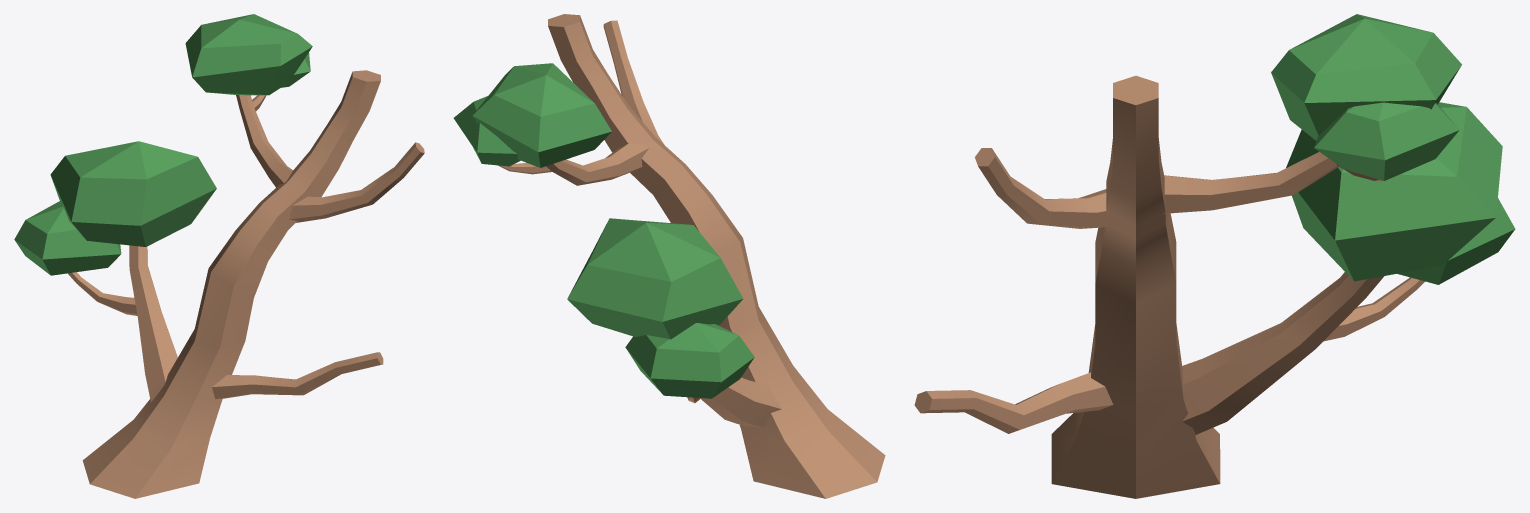
File: tree_03.fbx
3 renders of one model, left to right at view 1: azimuth 30°, elevation 25°; view 2: azimuth 150°, elevation 25°; view 3: azimuth 270°, elevation 25°, orthographic. The views are drawn at different scales.
Visible parts, largest first — view 1: pCylinder43, pSphere43, pSphere45, pSphere44, pCylinder45, pCylinder44, pCylinder46, pCylinder47, pCylinder48; view 2: pCylinder43, pSphere43, pSphere45, pSphere44, pCylinder45, pCylinder47, pSphere46, pCylinder46; view 3: pCylinder43, pSphere43, pSphere45, pCylinder45, pSphere46, pCylinder44, pCylinder47, pCylinder46, pSphere44, pCylinder48.
Part boxes in pixels (x1=…): pCylinder43: x1=82, y1=70, x2=380, y2=498; pSphere43: x1=50, y1=141, x2=216, y2=246; pSphere45: x1=185, y1=14, x2=312, y2=95; pSphere44: x1=14, y1=201, x2=121, y2=275; pCylinder45: x1=129, y1=245, x2=177, y2=402; pCylinder44: x1=212, y1=352, x2=383, y2=399; pCylinder46: x1=289, y1=142, x2=424, y2=222; pCylinder47: x1=236, y1=95, x2=292, y2=187; pCylinder48: x1=68, y1=272, x2=137, y2=315; pCylinder43: x1=548, y1=14, x2=885, y2=498; pSphere43: x1=567, y1=218, x2=743, y2=339; pSphere45: x1=472, y1=63, x2=611, y2=167; pSphere44: x1=625, y1=323, x2=754, y2=398; pCylinder45: x1=700, y1=377, x2=781, y2=427; pCylinder47: x1=546, y1=142, x2=648, y2=185; pSphere46: x1=453, y1=96, x2=520, y2=166; pCylinder46: x1=603, y1=20, x2=664, y2=144; pCylinder43: x1=1051, y1=75, x2=1220, y2=498; pSphere43: x1=1286, y1=102, x2=1502, y2=281; pSphere45: x1=1271, y1=14, x2=1461, y2=140; pCylinder45: x1=1182, y1=272, x2=1384, y2=434; pSphere46: x1=1314, y1=102, x2=1459, y2=180; pCylinder44: x1=914, y1=372, x2=1113, y2=433; pCylinder47: x1=1163, y1=152, x2=1338, y2=213; pCylinder46: x1=975, y1=148, x2=1122, y2=228; pSphere44: x1=1397, y1=198, x2=1515, y2=284; pCylinder48: x1=1324, y1=277, x2=1424, y2=341.
Bounding box in the file's own units: 99.73 × 115 × 109.
